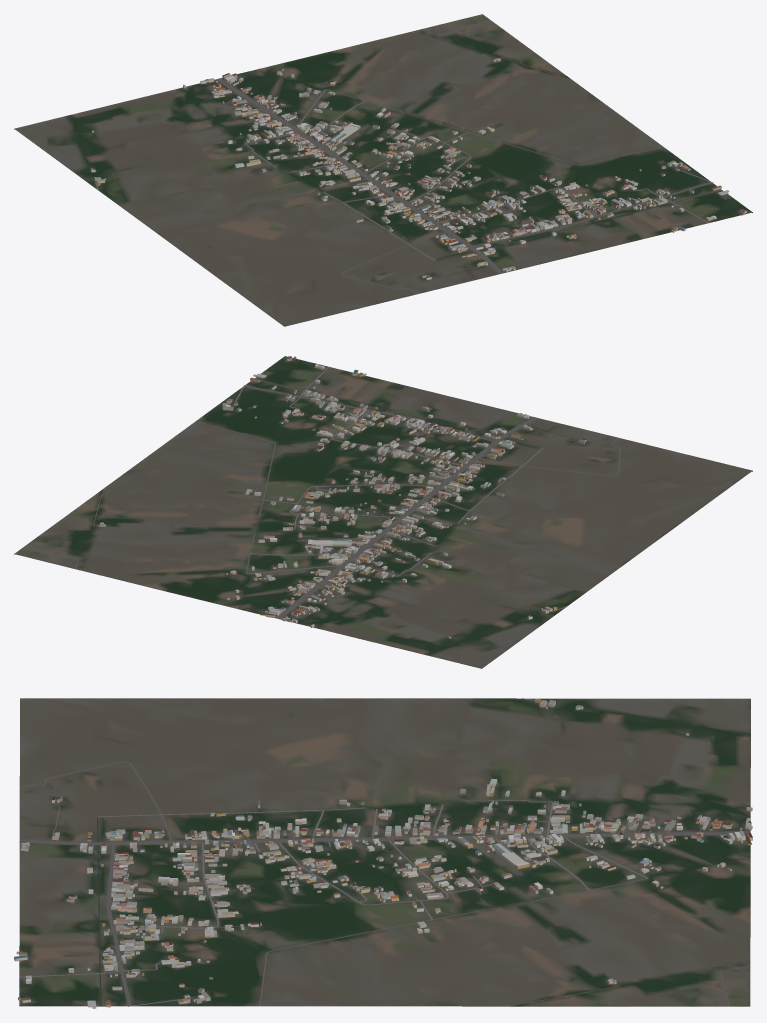
3 renders of one model, top to bottom at view 1: azimuth 30°, elevation 25°; view 2: azimuth 150°, elevation 25°; view 3: azimuth 270°, elevation 25°, orthographic. The views are drawn at different scales.
Parts seen in each view (by area): view 1: ground, buildings, roads; view 2: ground, buildings, roads; view 3: ground, buildings, roads.
Boxes of the visible parts, <box> form: ground: <box>14,14,752,326</box>; buildings: <box>91,58,746,279</box>; roads: <box>95,19,713,293</box>; ground: <box>14,356,752,668</box>; buildings: <box>98,356,586,638</box>; roads: <box>22,366,620,619</box>; ground: <box>19,698,750,1006</box>; buildings: <box>14,698,752,1008</box>; roads: <box>19,698,750,1006</box>.
Size of the model in its own units: 1410 by 17.72 by 1416.
